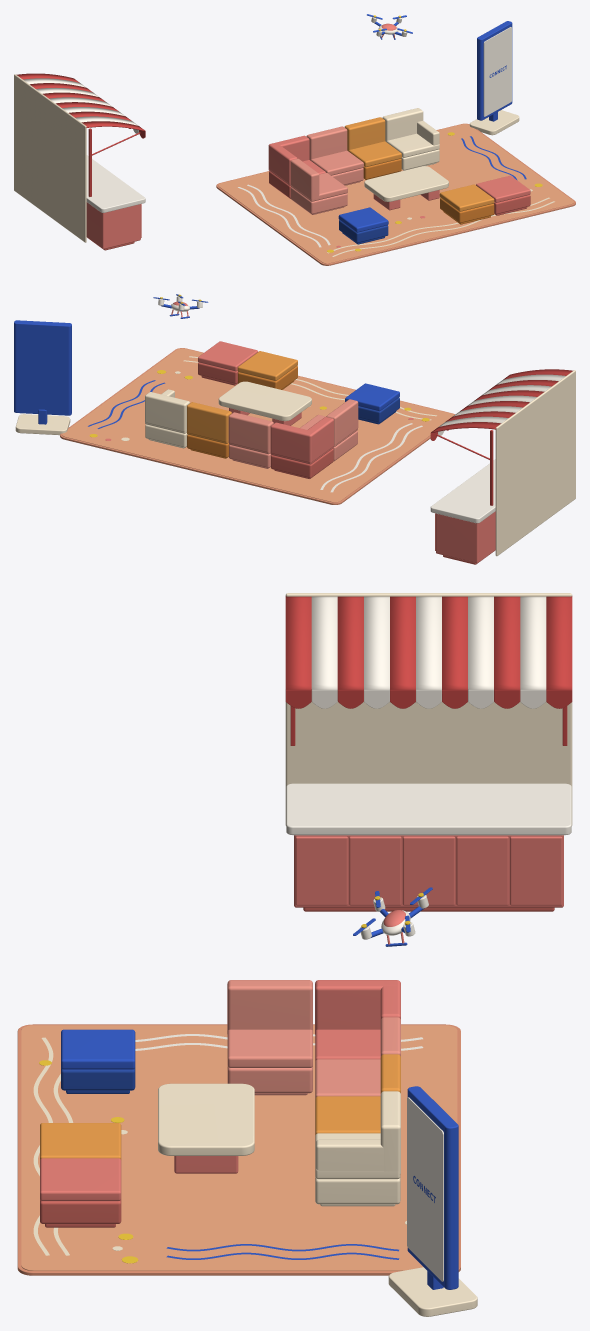
3 renders of one model, top to bottom at view 1: azimuth 30°, elevation 25°; view 2: azimuth 150°, elevation 25°; view 3: azimuth 270°, elevation 25°, orthographic. The views are drawn at different scales.
Parts seen in each view (by area): view 1: Apricot matte rug field.001, Coffee / unlettered neutral backing.001, Display / untextured ivory screen.001, Coffee / counter carcass.001, Central table / one cream top.001, Coffee / cream counter surface.001, One continuous bound rug.001, Lounge module 02 / upright back.001, Lounge module 03 / upright back.001, Display / blue portrait housing.001, Bench module A / seat.001, Lounge module 04 / upright back.001 (+20 smaller); view 2: Apricot matte rug field.001, Coffee / unlettered neutral backing.001, Display / blue portrait housing.001, Coffee / counter carcass.001, Central table / one cream top.001, Coffee / cream counter surface.001, One continuous bound rug.001, Lounge module 02 / upright back.001, Lounge module 03 / upright back.001, Lounge module 04 / upright back.001, Lounge module 01 / upright back.001, Bench module A / seat.001 (+22 smaller); view 3: Apricot matte rug field.001, Coffee / unlettered neutral backing.001, Coffee / cream counter surface.001, Central table / one cream top.001, Display / untextured ivory screen.001, One continuous bound rug.001, Lounge module 05 / return / left back.001, Coffee / flat front module 00.001, Coffee / flat front module 03.001, Coffee / flat front module 04.001, Coffee / flat front module 02.001, Coffee / flat front module 01.001 (+31 smaller).
Part boxes in pixels (box(x1,y1,x2,y2)): Apricot matte rug field.001: box(218, 124, 573, 263); Coffee / unlettered neutral backing.001: box(14, 74, 86, 242); Display / untextured ivory screen.001: box(483, 27, 511, 116); Coffee / counter carcass.001: box(86, 202, 140, 249); Central table / one cream top.001: box(364, 166, 448, 201); Coffee / cream counter surface.001: box(86, 155, 145, 212); One continuous bound rug.001: box(216, 123, 575, 265); Lounge module 02 / upright back.001: box(306, 126, 347, 159); Lounge module 03 / upright back.001: box(344, 117, 385, 150); Display / blue portrait housing.001: box(477, 21, 512, 120); Bench module A / seat.001: box(439, 184, 494, 211); Lounge module 04 / upright back.001: box(382, 108, 423, 141); Apricot matte rug field.001: box(62, 348, 454, 502); Coffee / unlettered neutral backing.001: box(495, 370, 575, 556); Display / blue portrait housing.001: box(14, 320, 71, 415); Coffee / counter carcass.001: box(436, 511, 495, 563); Central table / one cream top.001: box(218, 381, 311, 421); Coffee / cream counter surface.001: box(430, 459, 495, 523); One continuous bound rug.001: box(60, 348, 454, 504); Lounge module 02 / upright back.001: box(228, 412, 273, 452); Lounge module 03 / upright back.001: box(187, 402, 231, 442); Lounge module 04 / upright back.001: box(145, 392, 189, 431); Lounge module 01 / upright back.001: box(270, 422, 313, 462); Bench module A / seat.001: box(237, 351, 297, 381); Apricot matte rug field.001: box(21, 1025, 457, 1270); Coffee / unlettered neutral backing.001: box(285, 593, 572, 825); Coffee / cream counter surface.001: box(286, 783, 571, 835); Central table / one cream top.001: box(158, 1083, 254, 1155); Display / untextured ivory screen.001: box(407, 1097, 443, 1281); One continuous bound rug.001: box(17, 1024, 460, 1275); Lounge module 05 / return / left back.001: box(227, 980, 312, 1033); Coffee / flat front module 00.001: box(295, 836, 347, 905); Coffee / flat front module 03.001: box(456, 836, 508, 905); Coffee / flat front module 04.001: box(510, 836, 562, 905); Coffee / flat front module 02.001: box(402, 836, 455, 905); Coffee / flat front module 01.001: box(349, 836, 401, 905).
Bounding box in the file's own units: 10.5 × 3.03 × 5.38.
